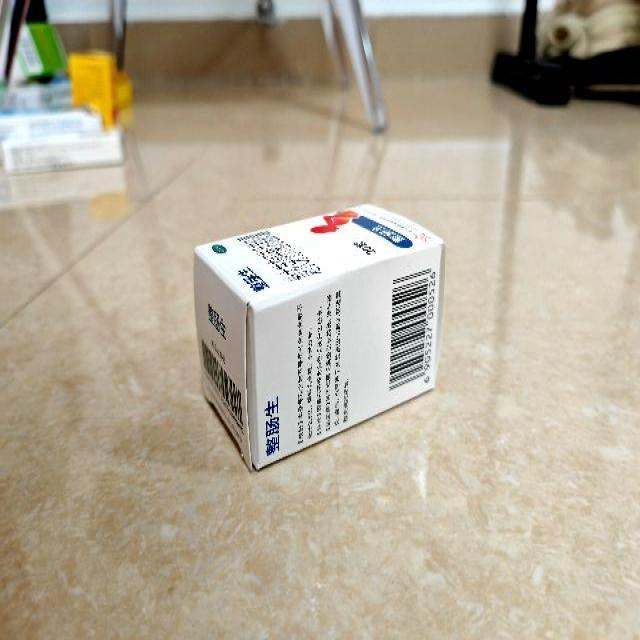box: (192, 204, 444, 476)
